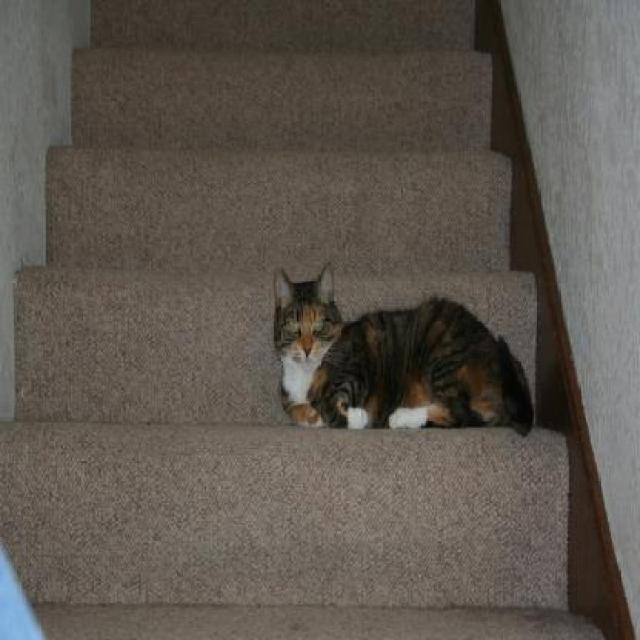stair: (1, 0, 614, 640)
